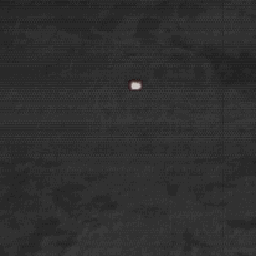Target: (130, 80, 142, 89)
